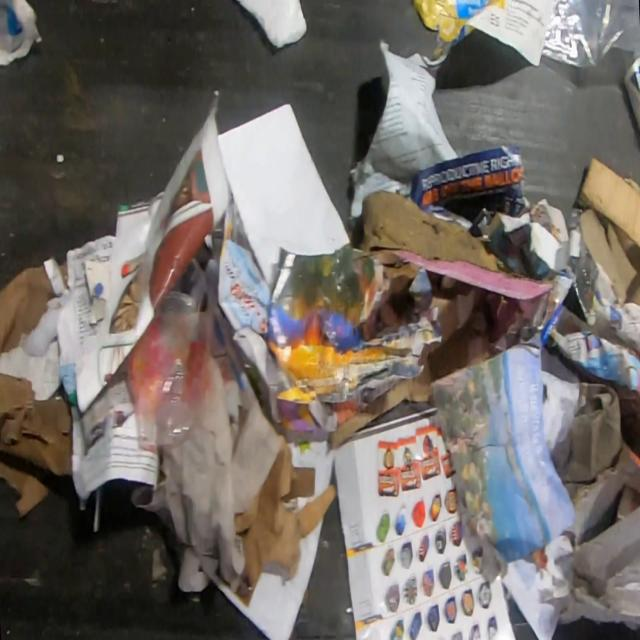cardboard: (328, 273, 494, 449), (552, 381, 640, 632), (235, 435, 338, 589), (356, 189, 506, 272), (574, 153, 640, 307), (412, 0, 506, 58)
soft_plastic: (121, 289, 216, 452), (541, 0, 640, 69)
